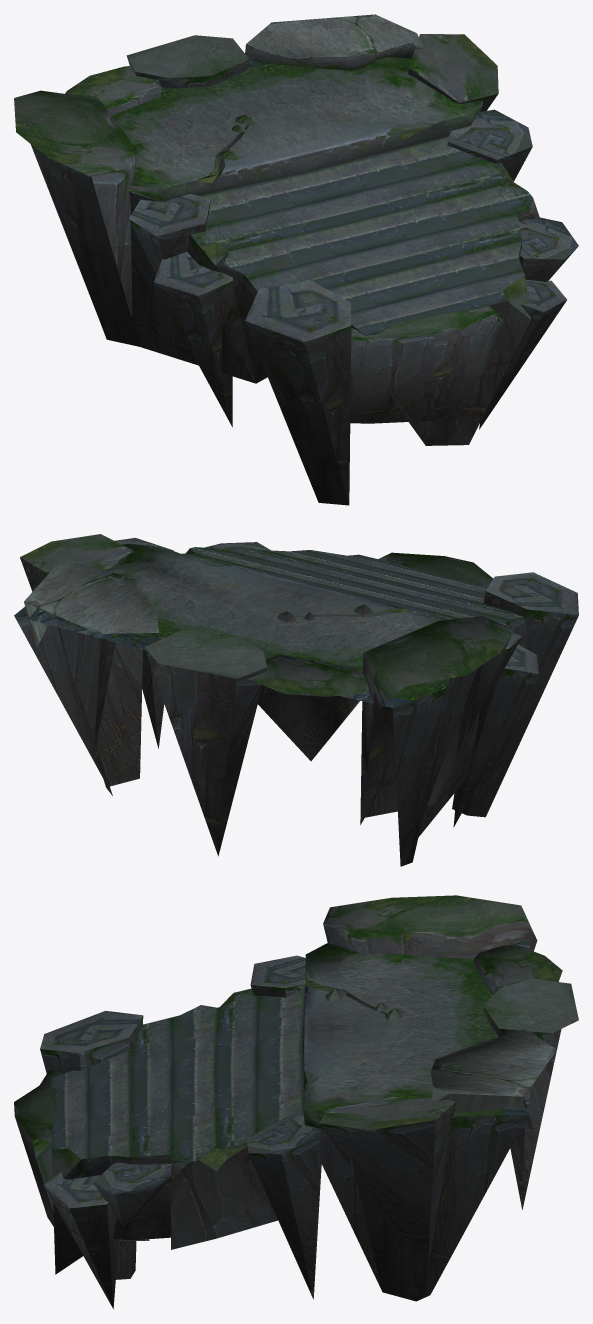
The model's file is fb_zhenlongqiju_shiti.FBX.
The picture shows the model from 3 angles, top to bottom: view 1: azimuth 30°, elevation 25°; view 2: azimuth 150°, elevation 25°; view 3: azimuth 270°, elevation 25°; orthographic projection. The views are drawn at different scales.
Parts seen in each view (by area): view 1: fb_zhenlongqiju_shiti; view 2: fb_zhenlongqiju_shiti; view 3: fb_zhenlongqiju_shiti.
Part boxes in pixels (x1,y1,x2,y2): fb_zhenlongqiju_shiti: (14, 14, 578, 505); fb_zhenlongqiju_shiti: (14, 534, 578, 866); fb_zhenlongqiju_shiti: (14, 895, 578, 1308).
Size of the model in its own units: 746 by 478 by 795.
